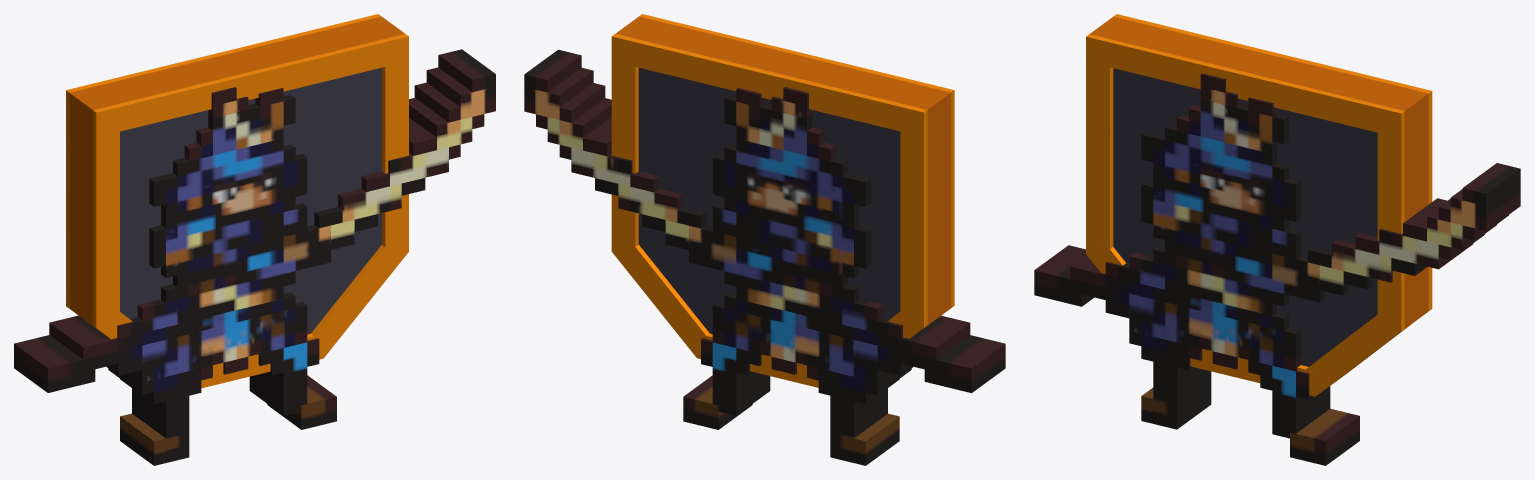
File: samurai.fbx
The picture shows the model from 3 angles, left to right: view 1: azimuth 30°, elevation 25°; view 2: azimuth 150°, elevation 25°; view 3: azimuth 330°, elevation 25°; orthographic projection.
Parts seen in each view (by area): view 1: SAMURAI; view 2: SAMURAI; view 3: SAMURAI.
Part boxes in pixels (x1,y1,x2,y2): SAMURAI: [14, 14, 495, 465]; SAMURAI: [524, 14, 1005, 465]; SAMURAI: [1034, 14, 1520, 465].
Bounding box in the file's own units: 760 × 593 × 100.
1 material, 1 textured.
